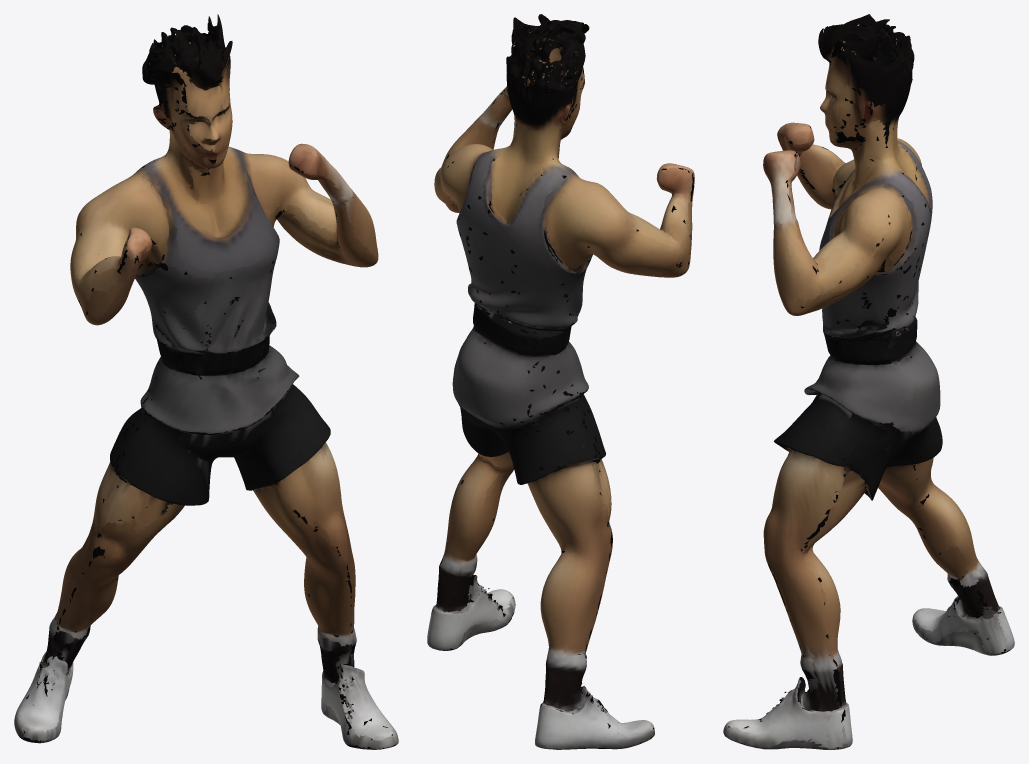
Rendered from trellis2-concept2-high.retexture.glb.
The picture shows the model from 3 angles, left to right: view 1: azimuth 30°, elevation 25°; view 2: azimuth 150°, elevation 25°; view 3: azimuth 270°, elevation 25°; orthographic projection. The views are drawn at different scales.
Parts seen in each view (by area): view 1: DST; view 2: DST; view 3: DST.
Boxes of the visible parts, bbox=[...] form: DST: bbox=[14, 14, 398, 749]; DST: bbox=[427, 14, 694, 749]; DST: bbox=[723, 14, 1014, 749].
Size of the model in its own units: 0.4224 by 0.999 by 0.3933.
Materials: 1 (1 with a texture image).
